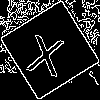X: (25, 25, 68, 77)
